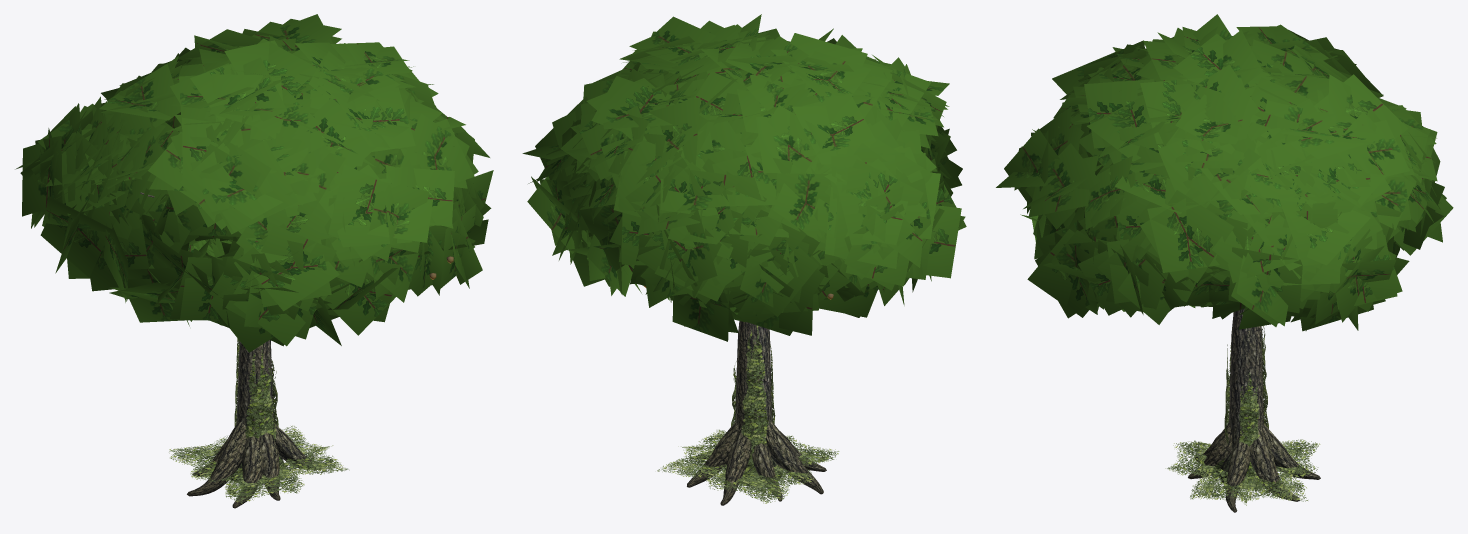
File: tree_b.glb
3 views of the same model, side by side, from view 1: azimuth 30°, elevation 25°; view 2: azimuth 150°, elevation 25°; view 3: azimuth 270°, elevation 25° (orthographic).
Parts seen in each view (by area): view 1: Leaves, Roots, IvyGround, IvyClimb, Trunk; view 2: Leaves, Roots, IvyGround, IvyClimb, Trunk; view 3: Leaves, IvyGround, Roots, Trunk, IvyClimb.
Boxes of the visible parts, x1=… form: Leaves: x1=15, y1=14, x2=493, y2=352; Roots: x1=187, y1=422, x2=326, y2=508; IvyGround: x1=169, y1=425, x2=349, y2=503; IvyClimb: x1=234, y1=338, x2=288, y2=483; Trunk: x1=230, y1=340, x2=283, y2=484; Leaves: x1=522, y1=14, x2=966, y2=341; Roots: x1=687, y1=421, x2=826, y2=505; IvyGround: x1=657, y1=429, x2=839, y2=503; IvyClimb: x1=731, y1=325, x2=777, y2=483; Trunk: x1=724, y1=321, x2=783, y2=485; Leaves: x1=996, y1=14, x2=1453, y2=331; IvyGround: x1=1165, y1=439, x2=1320, y2=505; Roots: x1=1188, y1=423, x2=1320, y2=512; Trunk: x1=1218, y1=308, x2=1263, y2=489; IvyClimb: x1=1212, y1=325, x2=1268, y2=488.
Size of the model in its own units: 6.36 by 6.48 by 6.18.
Materials: 4 (3 with a texture image).
